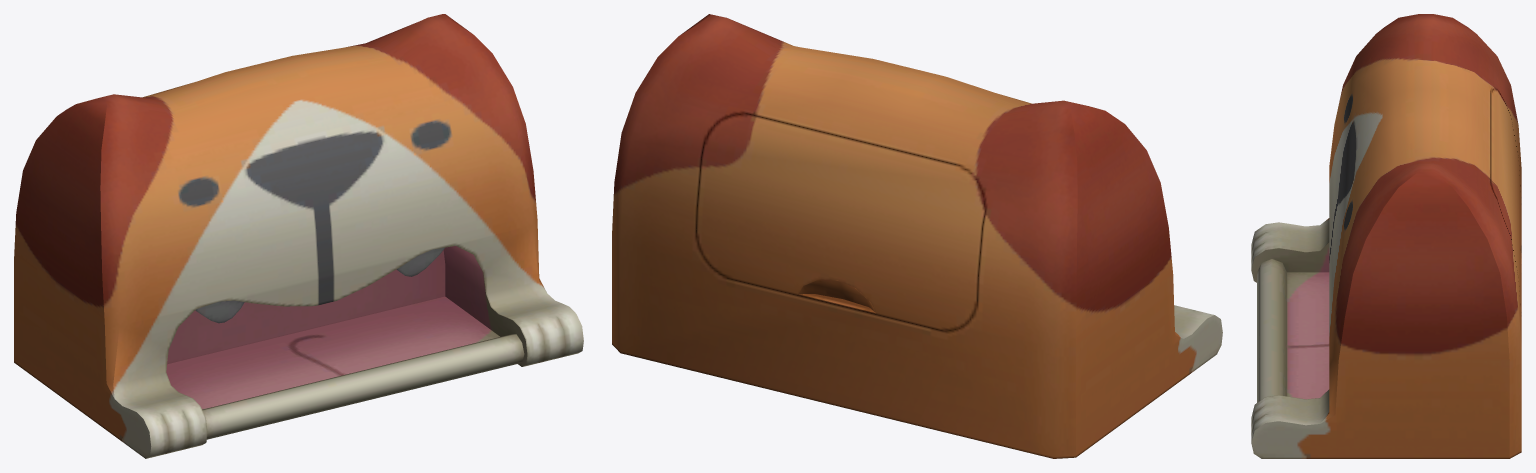
Rendered from cajaJuguetesMax.fbx.
3 views of the same model, side by side, from view 1: azimuth 30°, elevation 25°; view 2: azimuth 150°, elevation 25°; view 3: azimuth 270°, elevation 25° (orthographic). The views are drawn at different scales.
Visible parts, largest first — view 1: s4studio_mesh_1; view 2: s4studio_mesh_1; view 3: s4studio_mesh_1.
Part boxes in pixels (x1,y1,x2,y2): s4studio_mesh_1: (14, 14, 583, 458); s4studio_mesh_1: (612, 14, 1222, 458); s4studio_mesh_1: (1251, 14, 1521, 458).
Size of the model in its own units: 85 by 53.2 by 48.83.
Materials: 1 (1 with a texture image).
